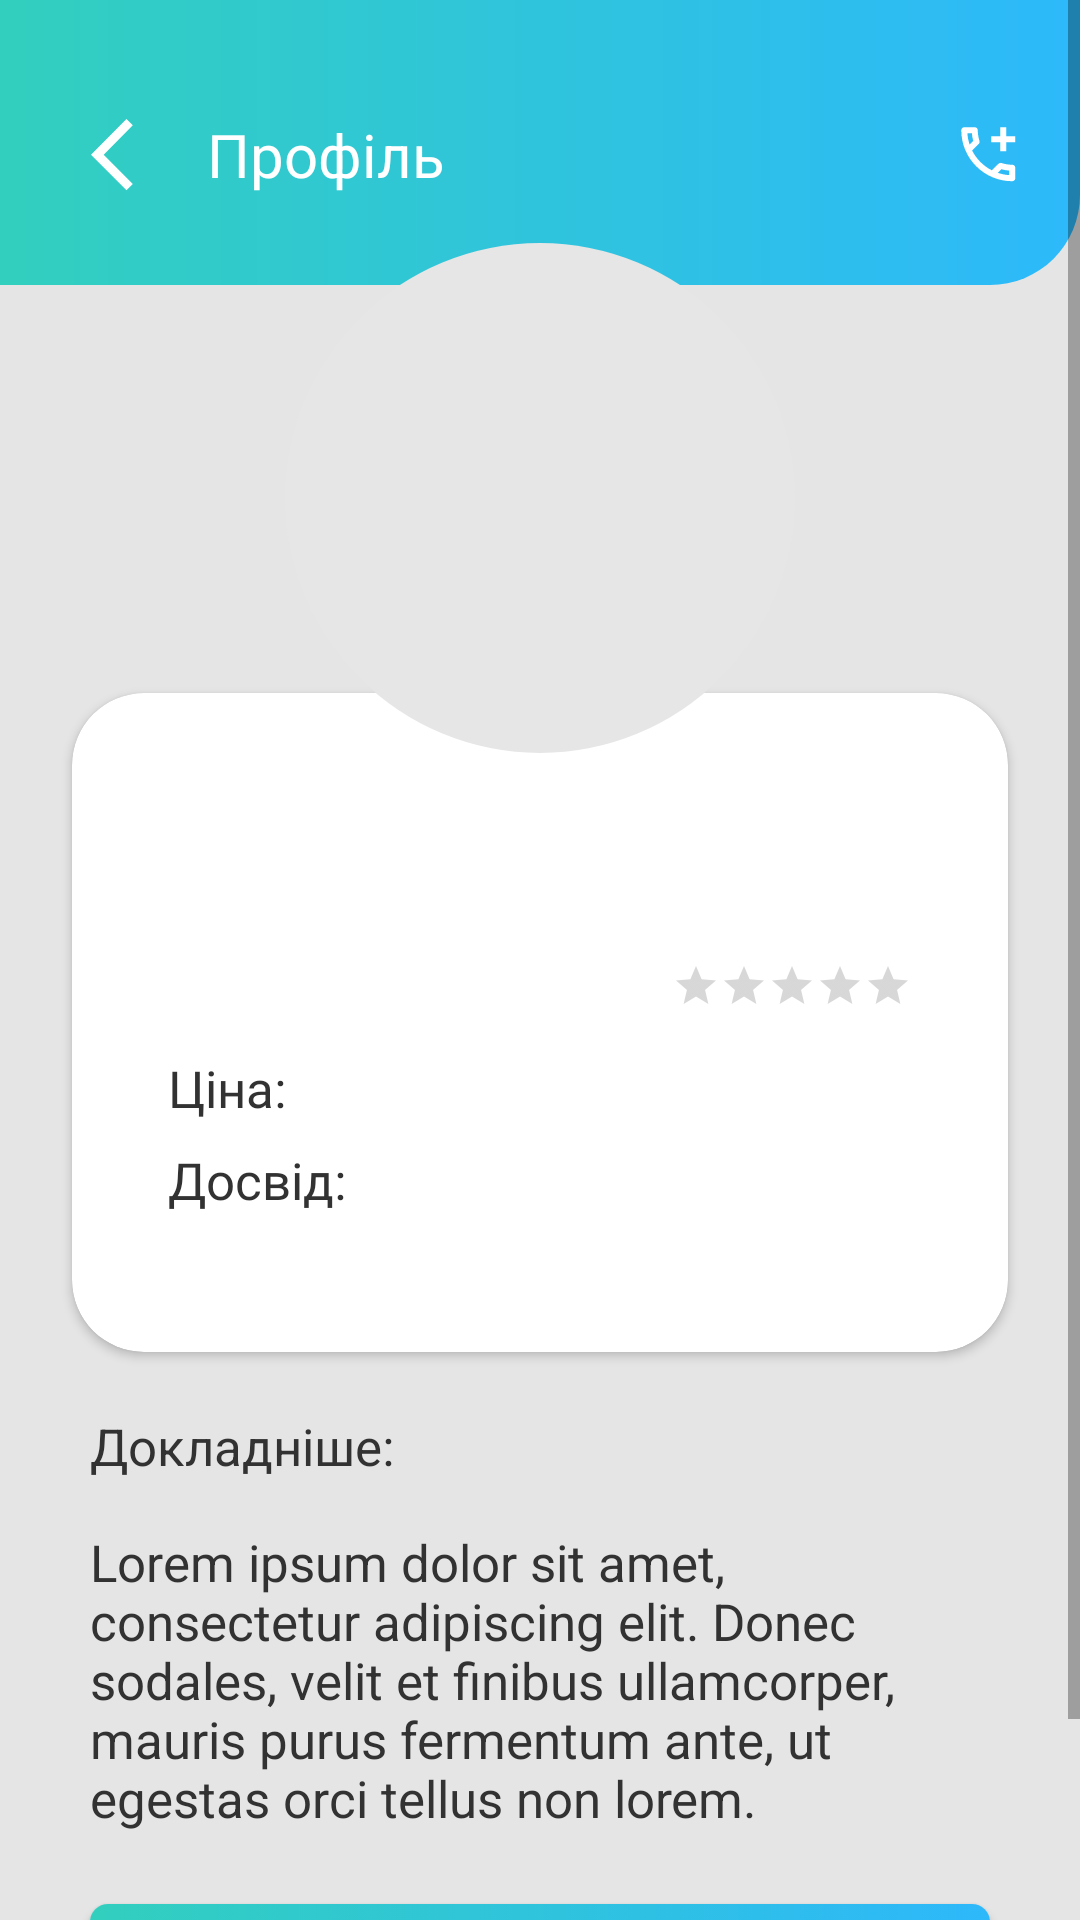

Icons on this 1080px×1920px Android screen, each with its box as (x1, y1, x2, y2):
back arrow: (91, 119, 133, 190)
call: (961, 127, 1016, 182)
